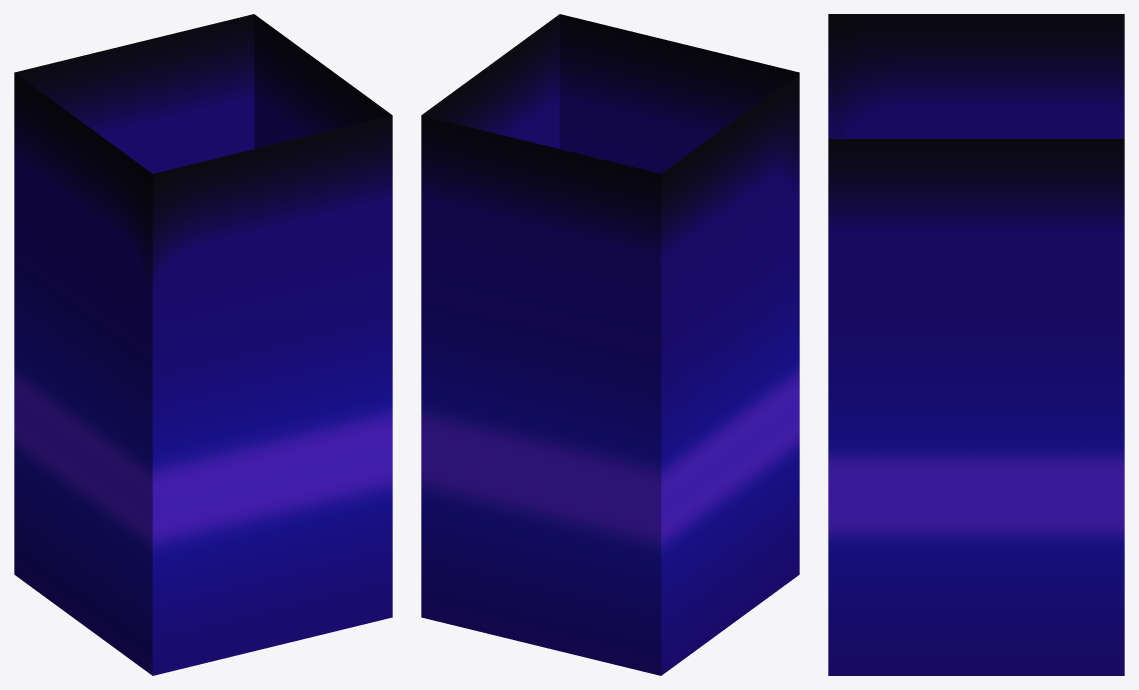
Rendered from scan.fbx.
3 views of the same model, side by side, from view 1: azimuth 30°, elevation 25°; view 2: azimuth 150°, elevation 25°; view 3: azimuth 270°, elevation 25° (orthographic). The views are drawn at different scales.
Visible parts, largest first — view 1: pCube1; view 2: pCube1; view 3: pCube1.
Part boxes in pixels (x1,y1,x2,y2): pCube1: (14,14,392,675); pCube1: (421,14,799,675); pCube1: (828,14,1124,675).
Bounding box in the file's own units: 10 × 20 × 10.
